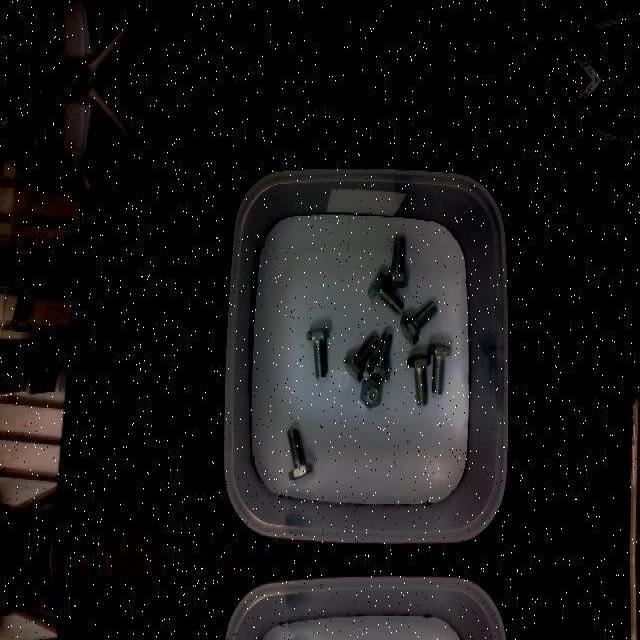screw: (343, 335, 378, 383), (400, 300, 437, 344), (368, 271, 405, 313), (286, 428, 312, 480), (366, 331, 392, 381), (427, 342, 452, 394), (406, 353, 430, 405), (384, 236, 408, 288), (306, 327, 330, 377), (359, 378, 383, 408)
